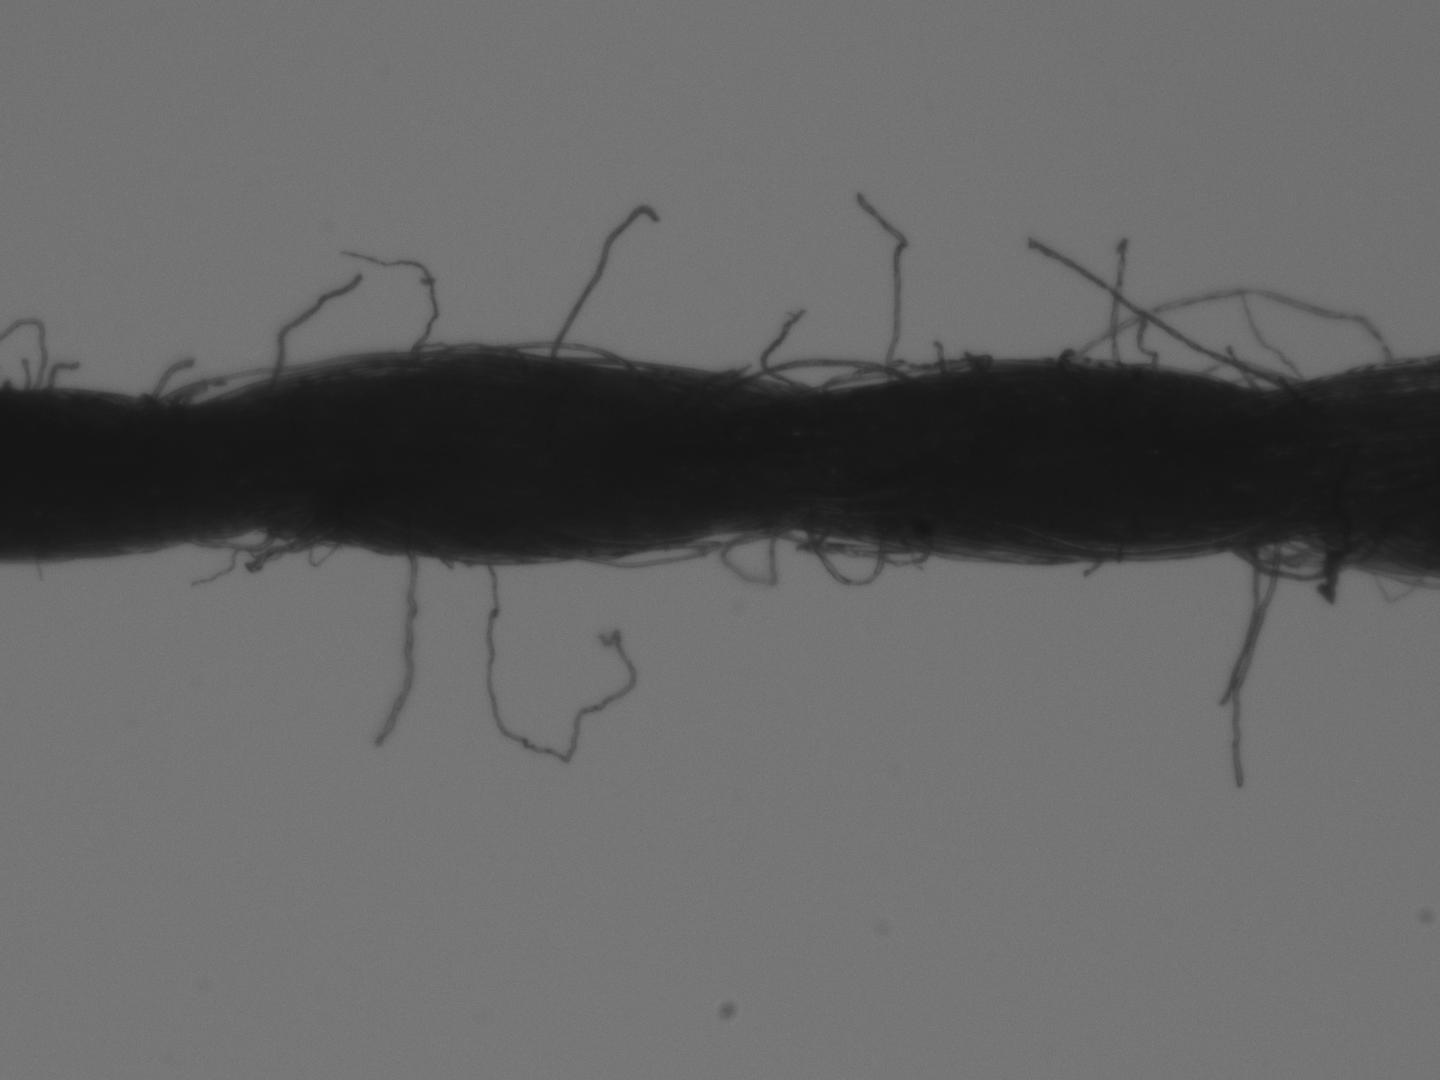loop_fiber: (1067, 285, 1387, 388), (582, 525, 770, 572), (824, 360, 985, 394), (743, 356, 908, 389), (1230, 533, 1349, 579), (159, 370, 281, 405), (818, 525, 881, 587), (663, 522, 780, 551), (497, 344, 633, 368), (190, 529, 279, 552), (872, 534, 927, 567)
protruding_fiber: (543, 204, 662, 373), (347, 243, 444, 361), (273, 271, 365, 385), (855, 186, 907, 379), (375, 548, 420, 751), (1106, 238, 1129, 362)
